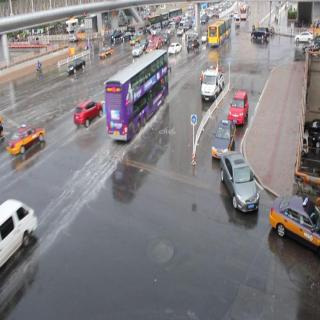BigCar: (103, 46, 175, 144), (206, 16, 234, 49)
Car: (271, 183, 320, 260), (216, 145, 258, 219), (4, 121, 47, 158), (211, 115, 240, 160), (67, 95, 103, 128), (198, 61, 223, 107), (227, 88, 251, 133), (249, 21, 270, 49), (64, 55, 85, 80), (291, 26, 313, 49), (96, 43, 113, 65), (184, 36, 201, 58), (166, 38, 179, 56)
